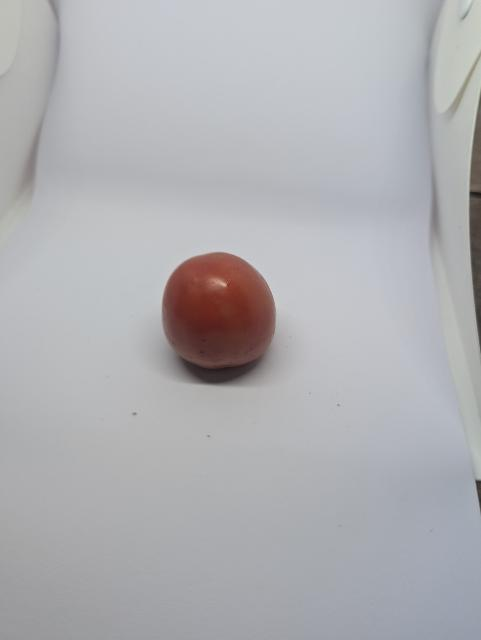red: (128, 241, 302, 410)
